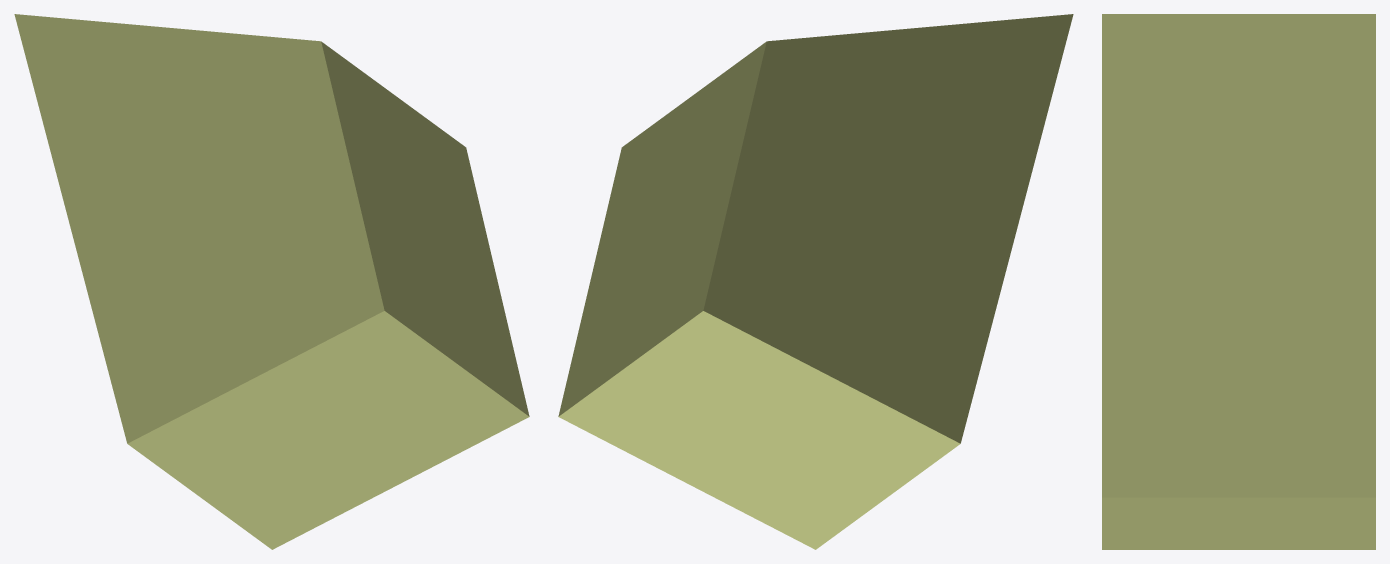
3 views of the same model, side by side, from view 1: azimuth 30°, elevation 25°; view 2: azimuth 150°, elevation 25°; view 3: azimuth 270°, elevation 25° (orthographic). The views are drawn at different scales.
Parts seen in each view (by area): view 1: 0_1_3_2_2_2_0_1_2_0_3; view 2: 0_1_3_2_2_2_0_1_2_0_3; view 3: 0_1_3_2_2_2_0_1_2_0_3.
Part boxes in pixels (x1,y1,x2,y2): 0_1_3_2_2_2_0_1_2_0_3: (14, 14, 529, 549); 0_1_3_2_2_2_0_1_2_0_3: (558, 14, 1073, 549); 0_1_3_2_2_2_0_1_2_0_3: (1102, 14, 1375, 549).
Size of the model in its own units: 8.84 by 10.44 by 6.
